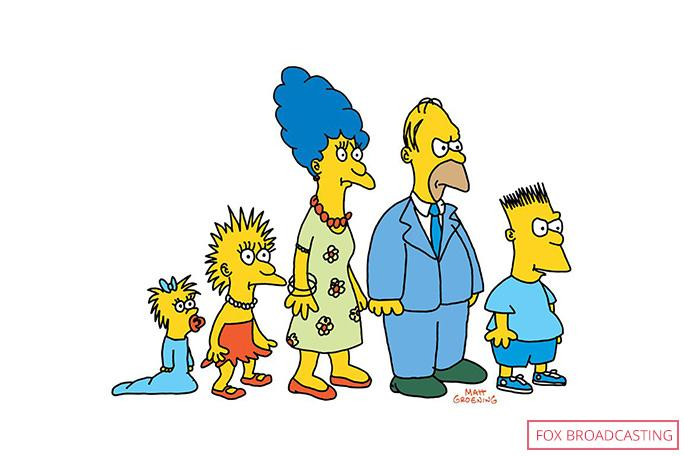Bart: (479, 169, 587, 398)
Homer: (380, 88, 493, 398)
Lisa: (194, 201, 288, 399)
Maggie: (116, 268, 221, 410)
Marge: (257, 56, 383, 402)
